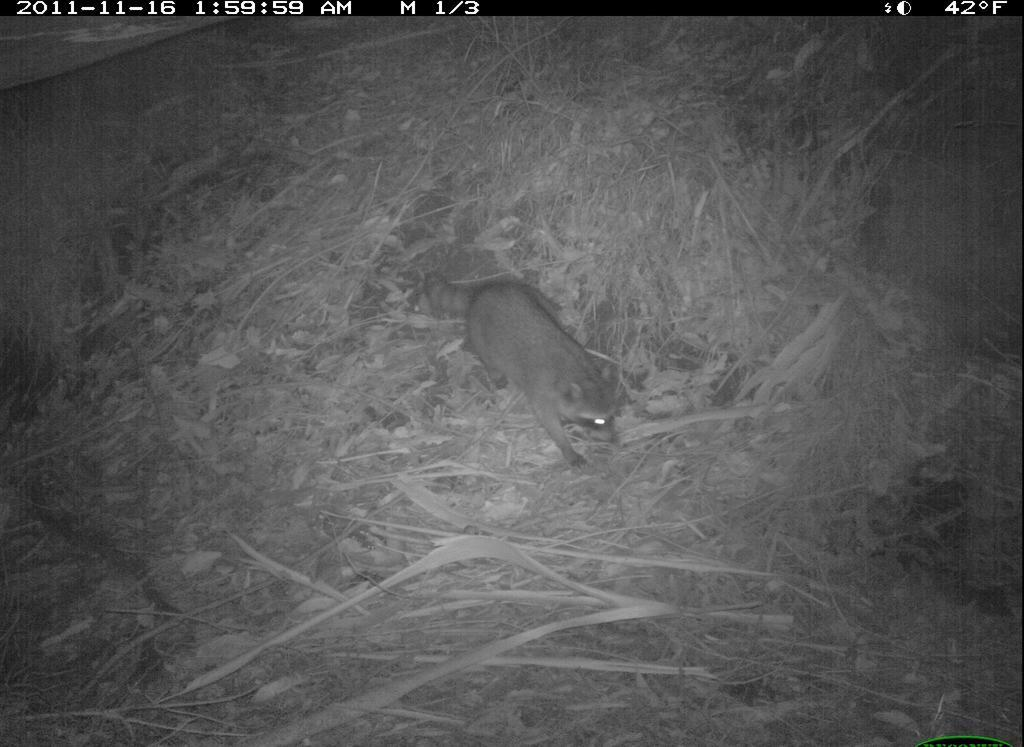raccoon: (404, 248, 628, 479)
